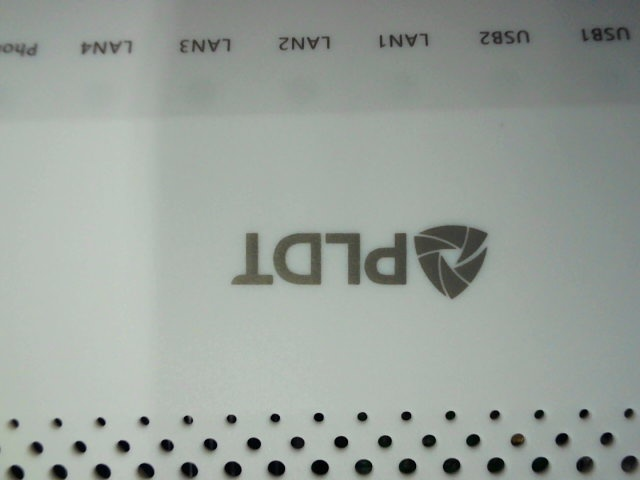BH_PLDT: (217, 212, 521, 317)
